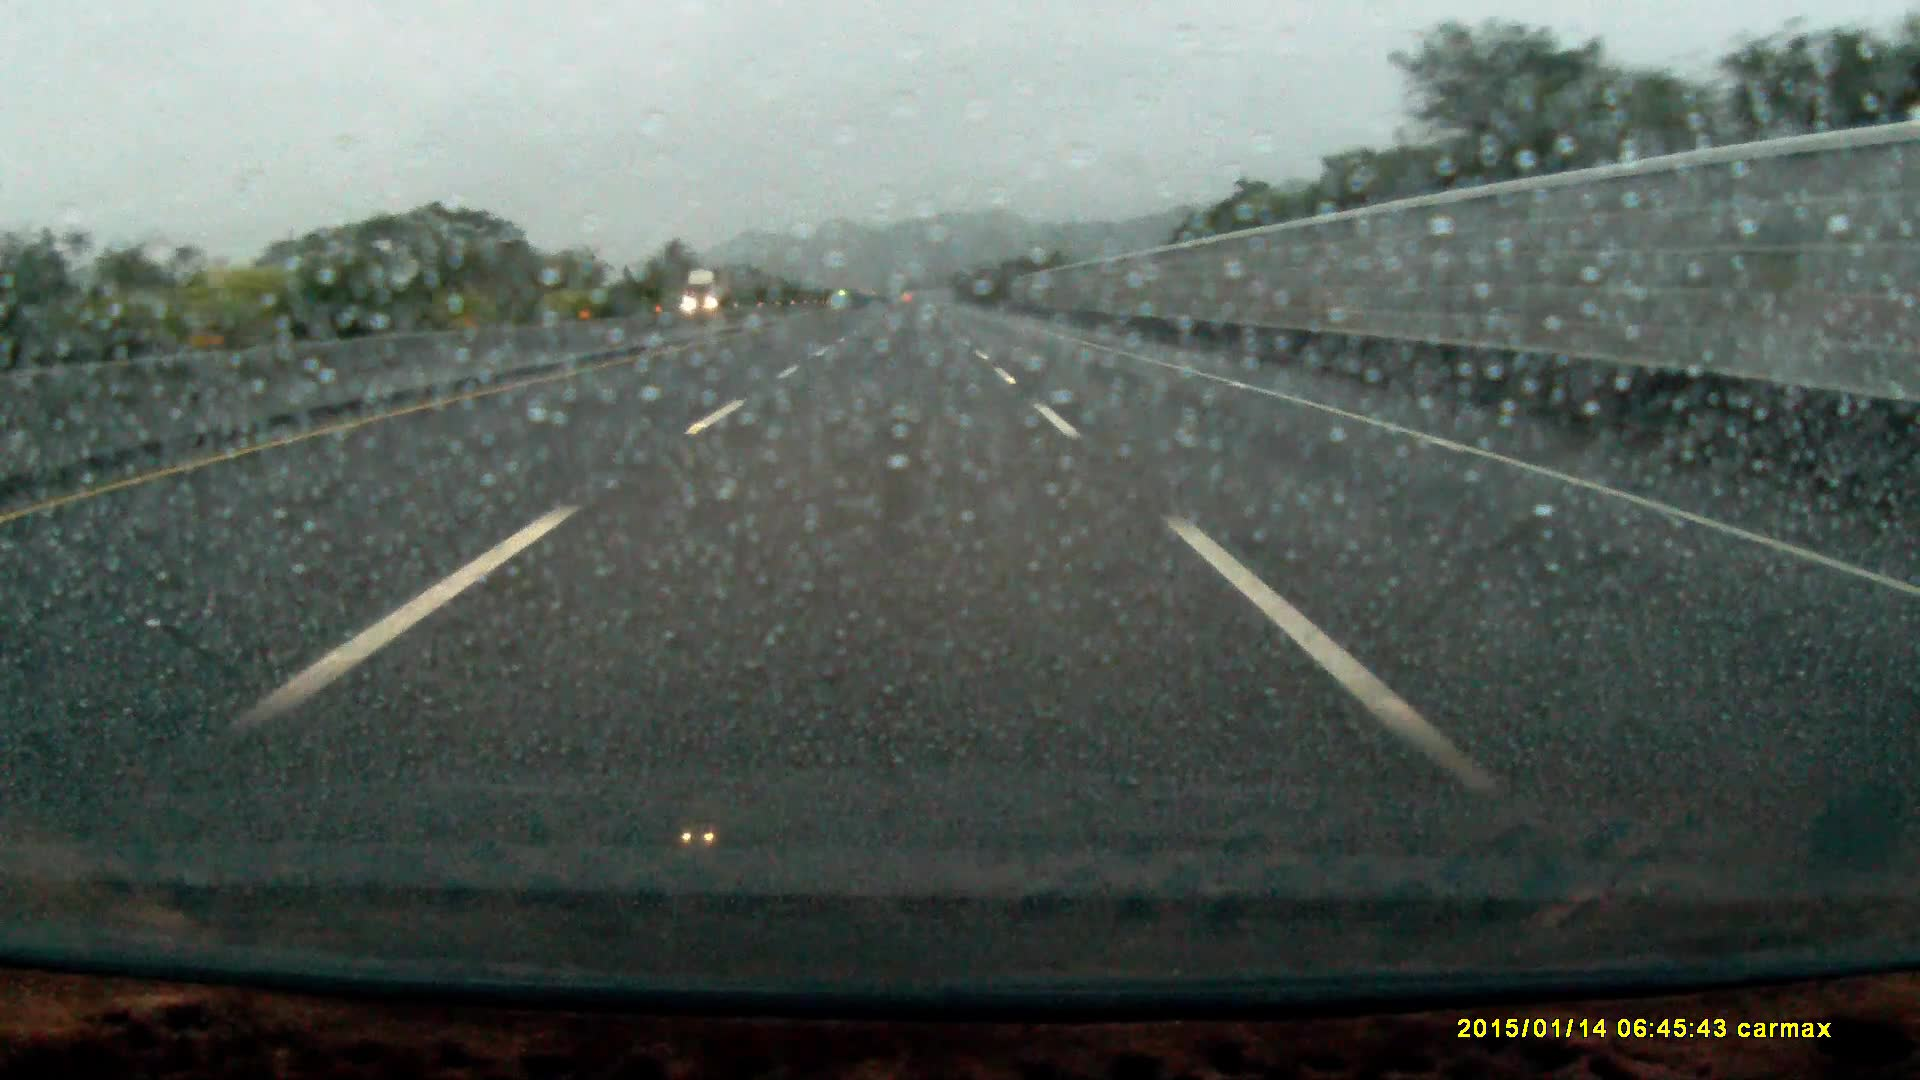vehicle: (680, 272, 735, 318)
